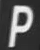Parking: (6, 2, 32, 47)
